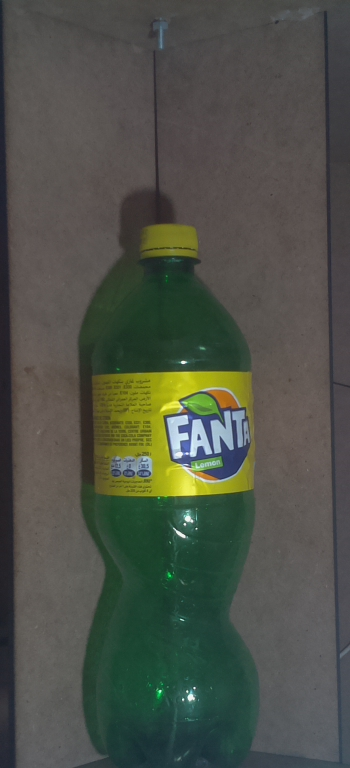Bouteille_1L: (72, 218, 272, 768)
